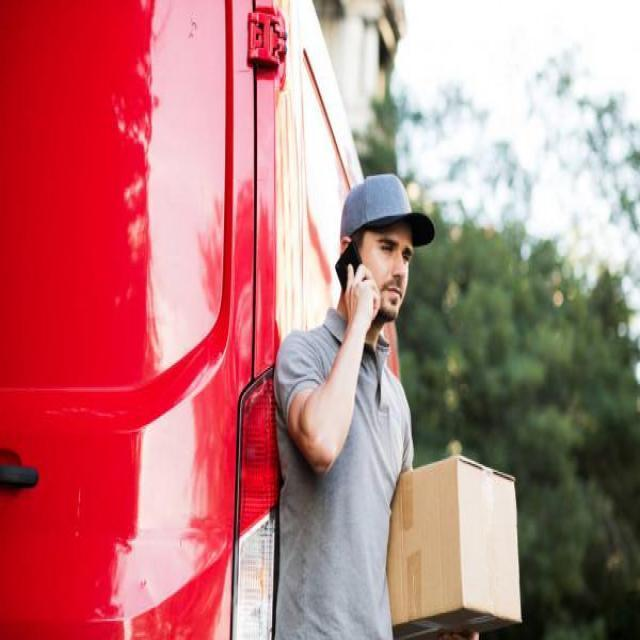box: (382, 447, 526, 635)
